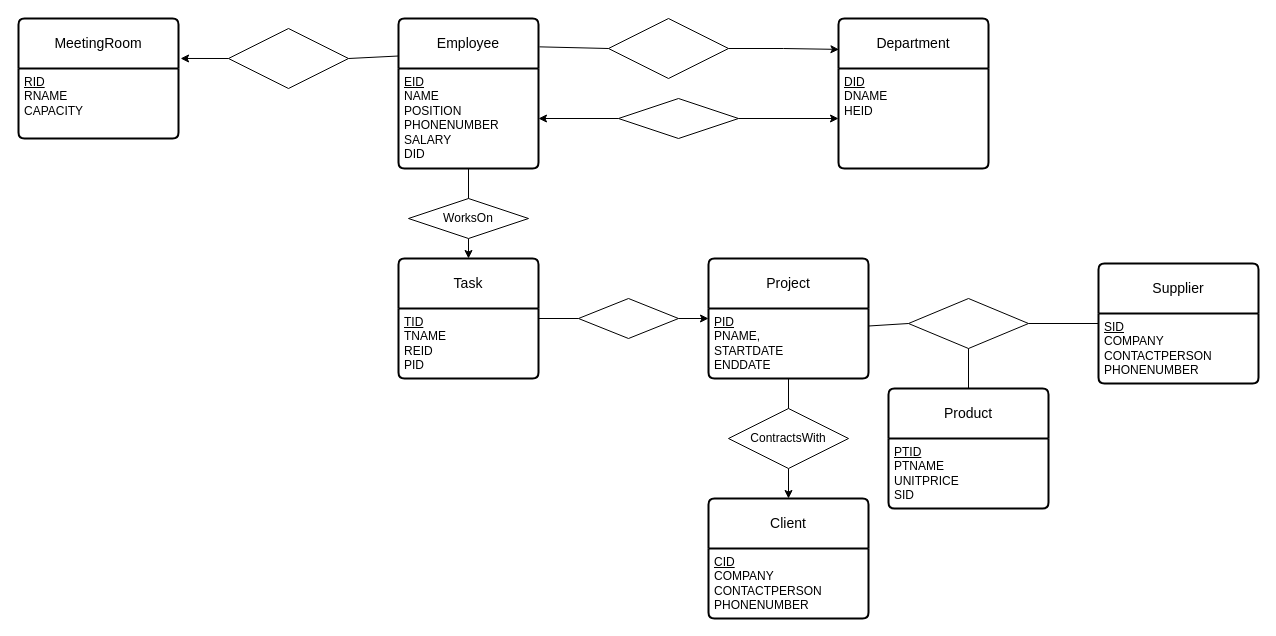
Image size: 1276x636. Some labels were removed from this diagram. Each missing label, with the centre of its shape:
"AssignedTo" belongs at pixel 628 318.
"BelongsTo" belongs at pixel 668 48.
"Book" belongs at pixel 288 58.
"Manages" belongs at pixel 678 118.
"Supplies" belongs at pixel 968 323.
